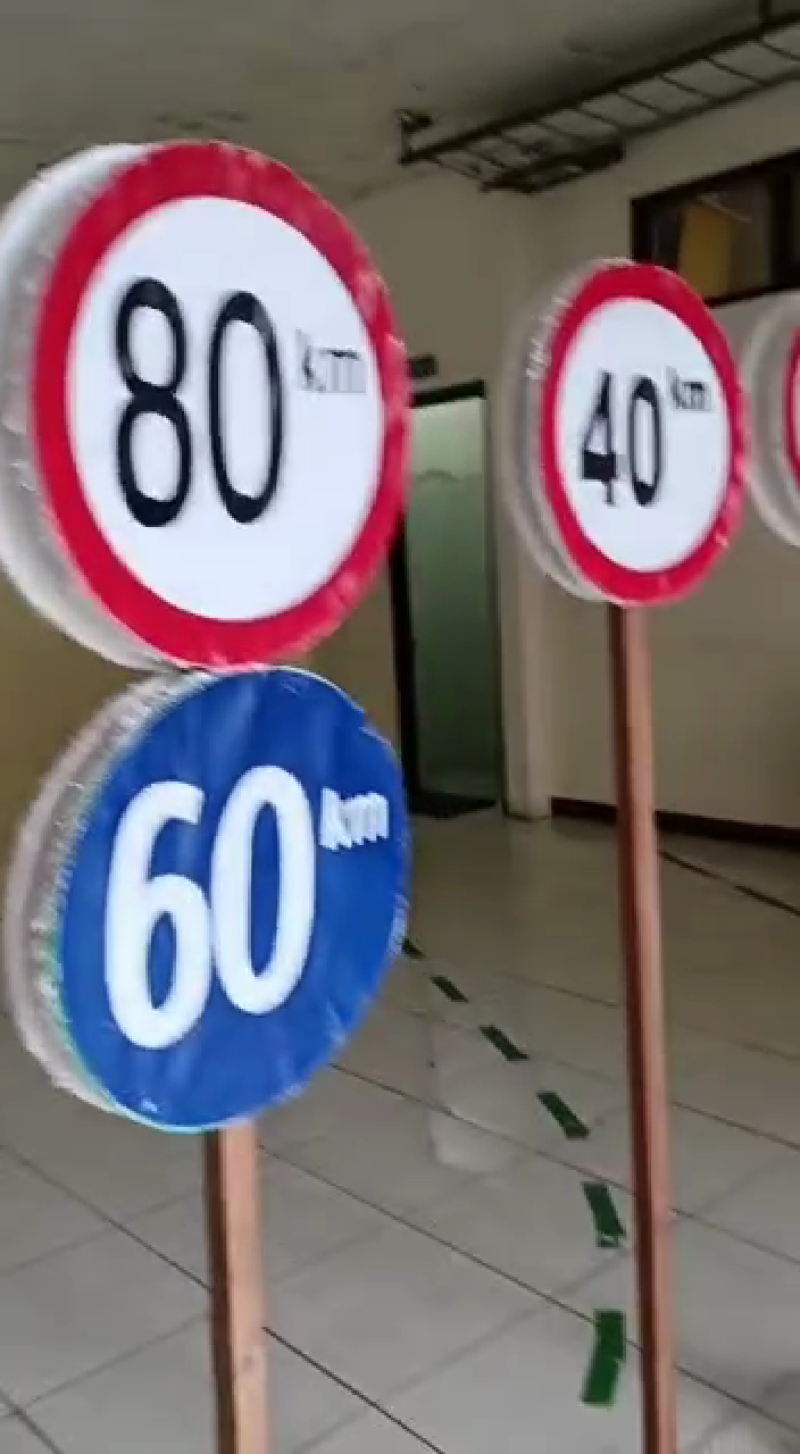batas maksimal 40kmperjam: (530, 253, 756, 611)
batas maksimal 80kmperjam minimal 60kmperjam: (1, 128, 427, 1140)
